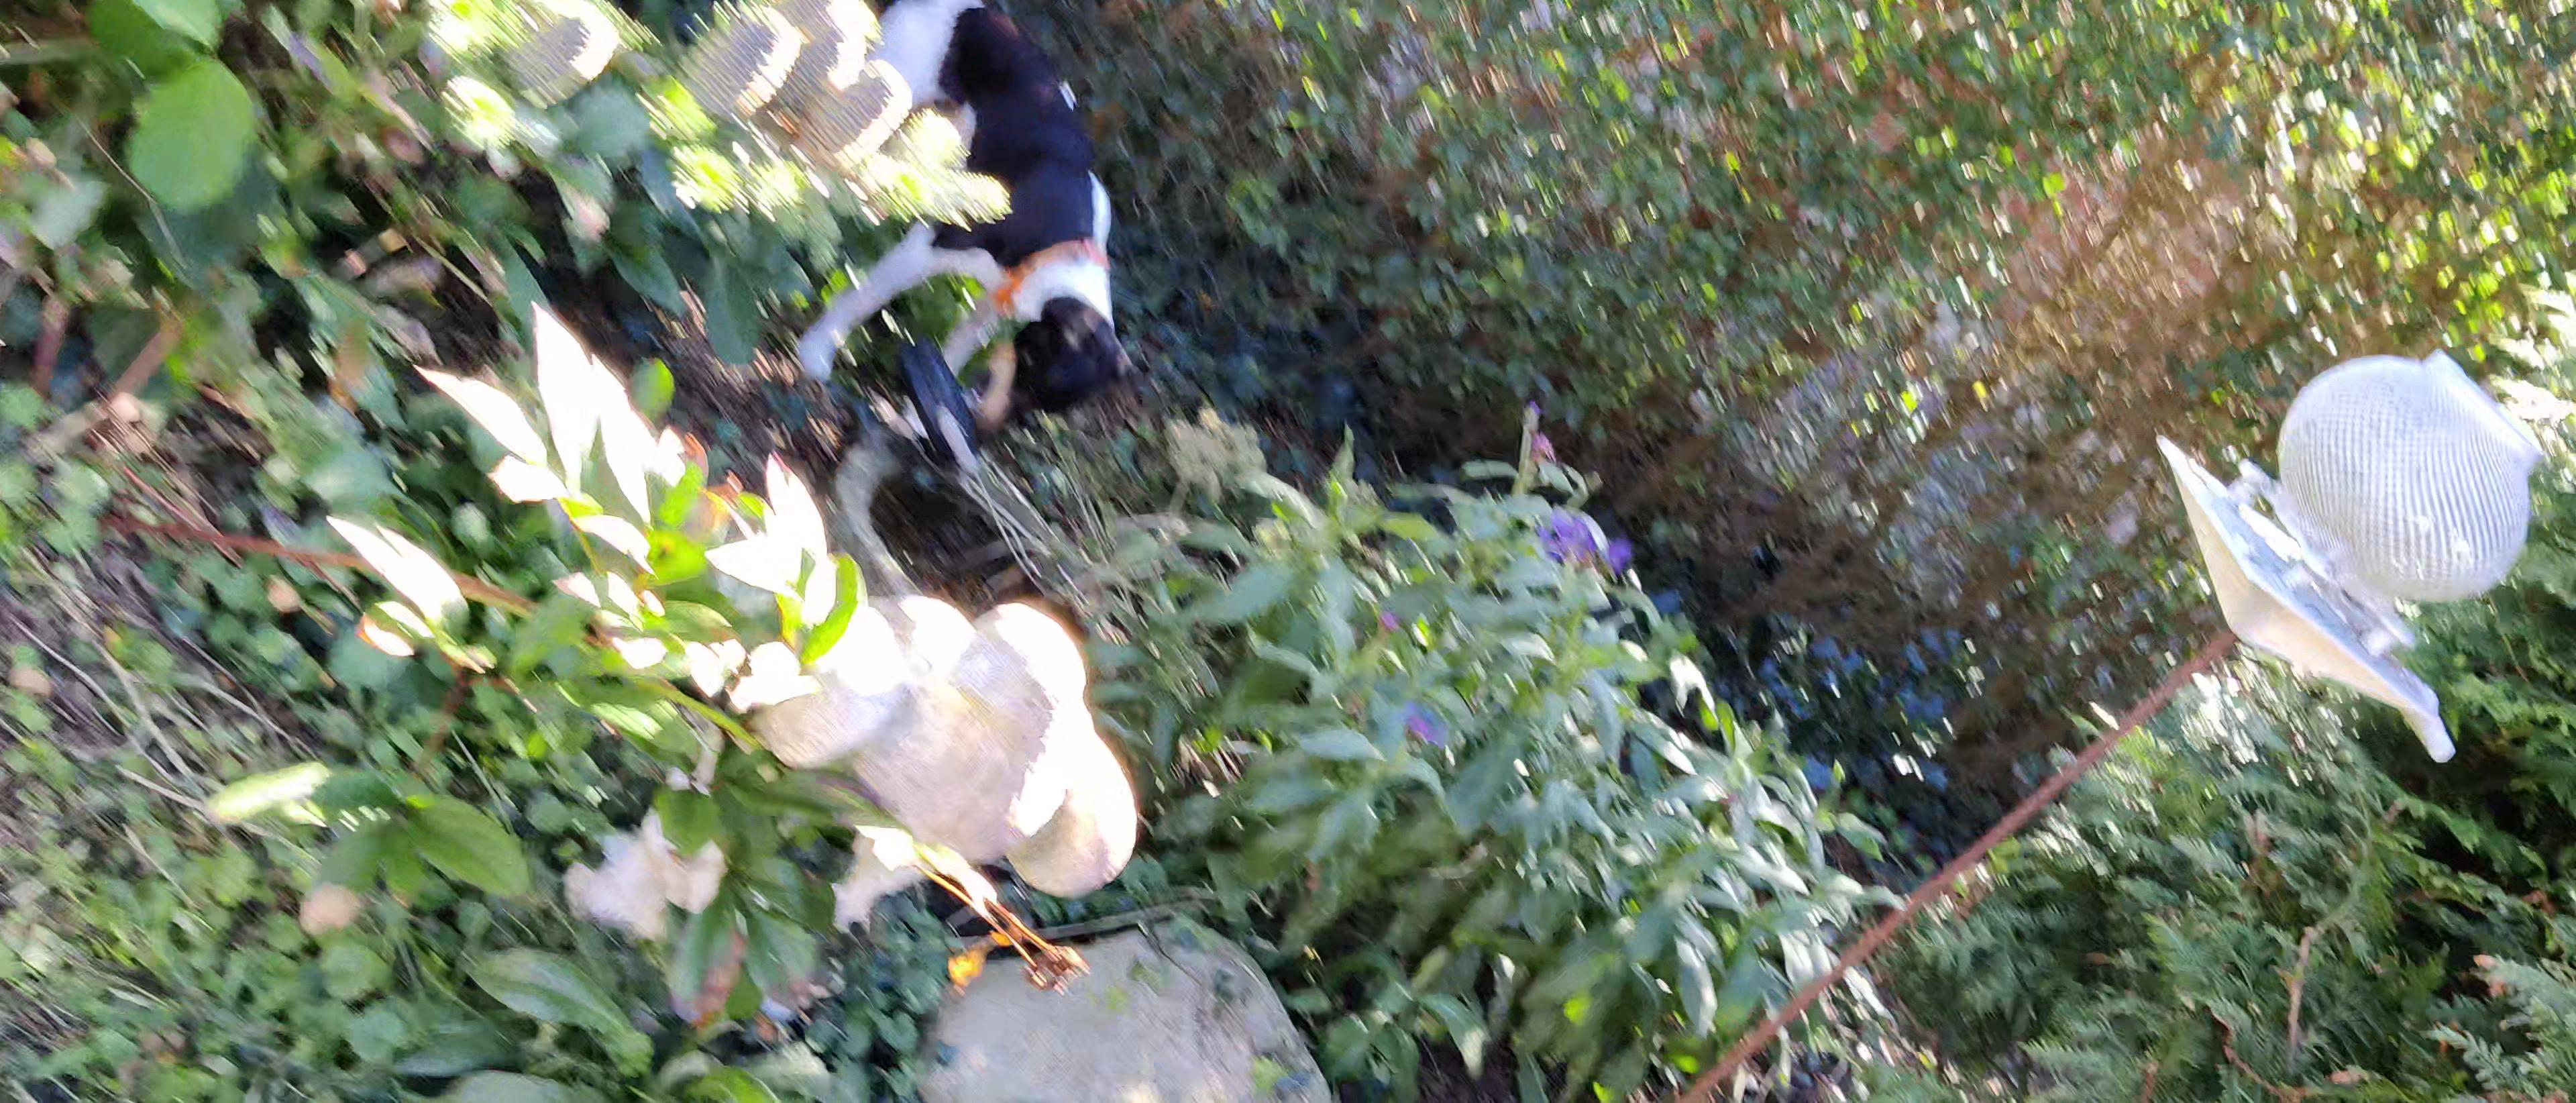Dog: (790, 0, 1153, 441)
